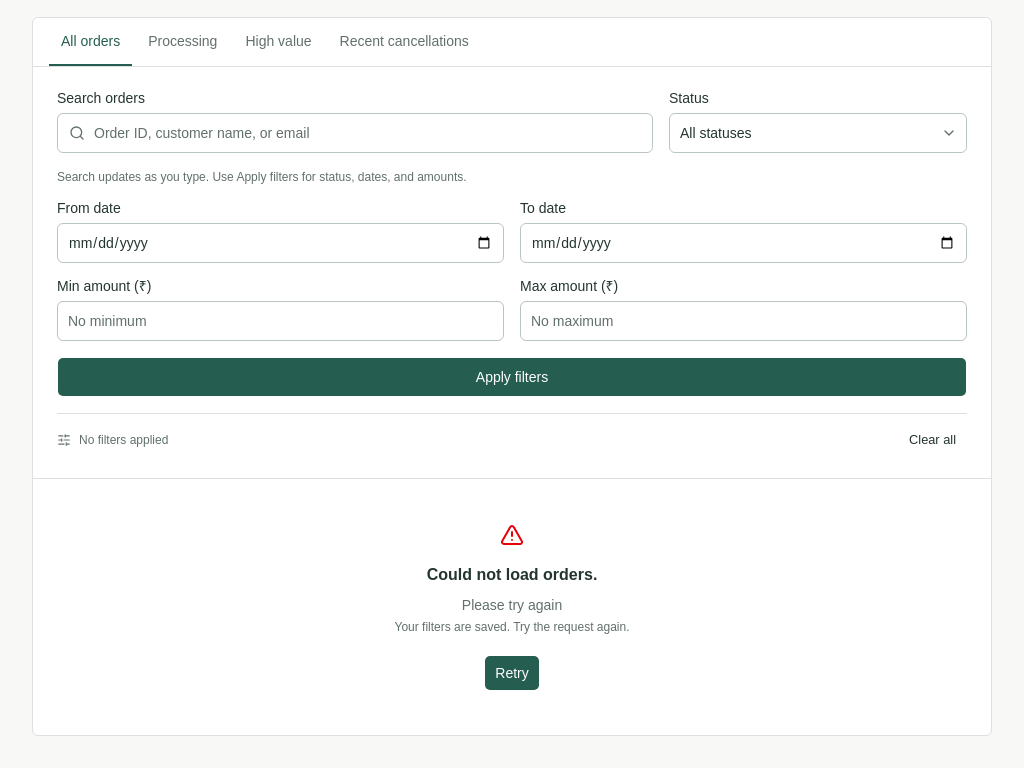
Test case: shows an error and retries the same view
(page scrolled)
Check: the message that starts with "Could not load orders." shows "Please try again", box [462,597,562,613]
Click the button "Retry".
click(512, 673)  # box [484,655,540,691]
(page scrolled)
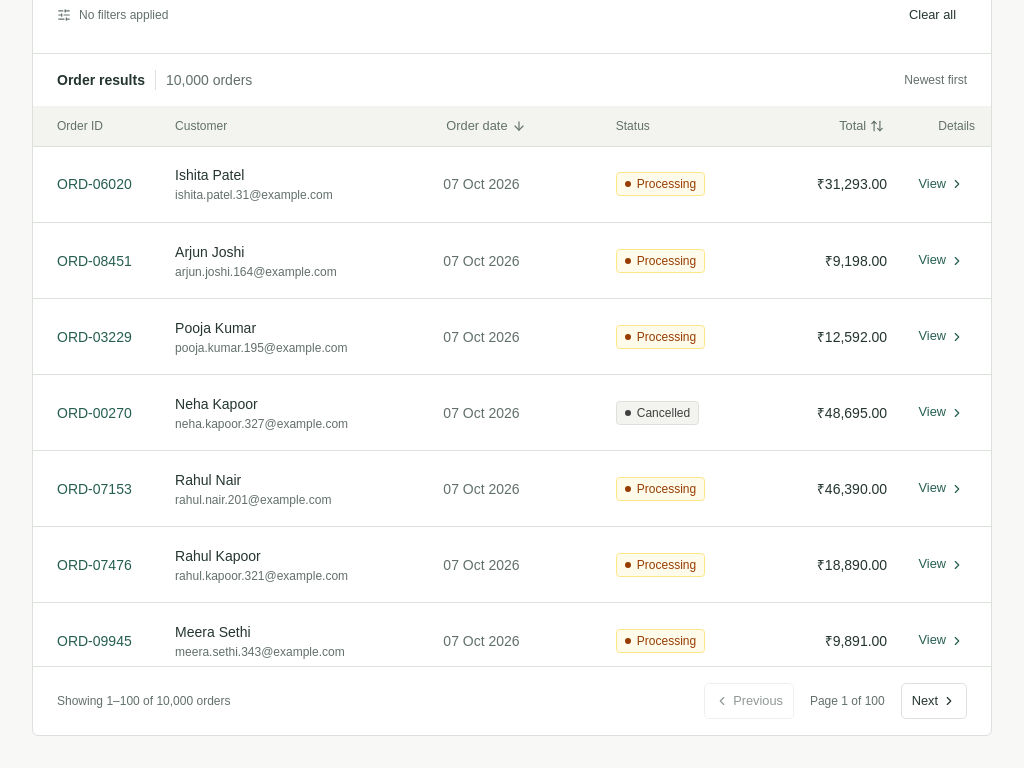
Check: the text "Page 1 of 100" is shown, box [810,694,885,708]
